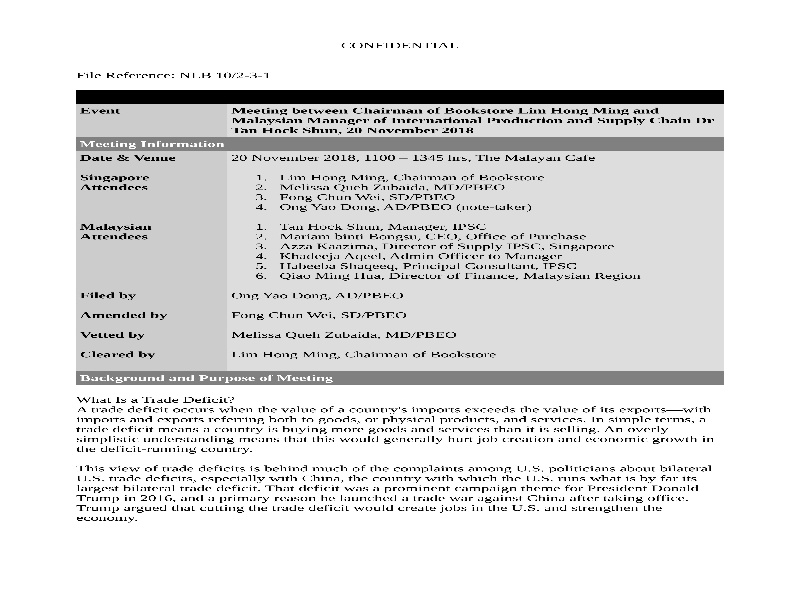borderless: (77, 89, 724, 371)
cell: (250, 220, 647, 285), (228, 103, 725, 135), (255, 170, 552, 213), (230, 151, 601, 167), (232, 347, 499, 363), (230, 327, 462, 343), (228, 307, 409, 323), (228, 289, 409, 303), (78, 139, 228, 151), (78, 171, 154, 194), (78, 222, 157, 243), (78, 150, 181, 166), (78, 308, 172, 324), (77, 348, 161, 362), (77, 327, 149, 343), (78, 287, 145, 303), (79, 104, 122, 119)
